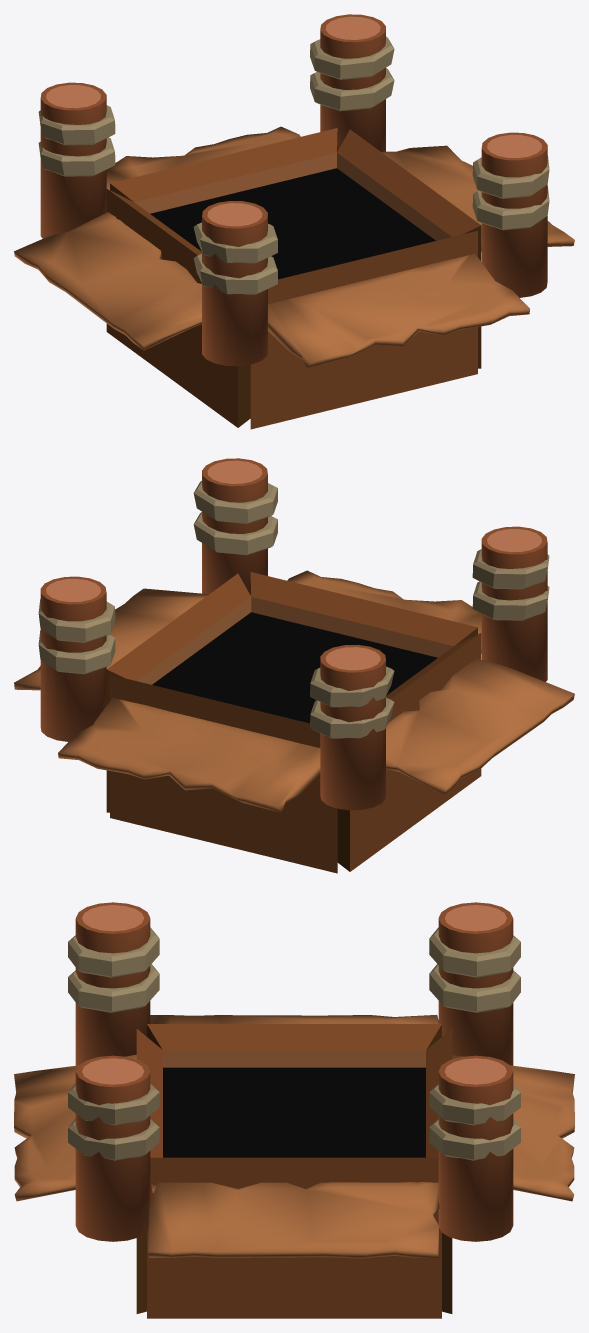
File: Gem_Spawner.fbx
3 views of the same model, one above another, from view 1: azimuth 30°, elevation 25°; view 2: azimuth 150°, elevation 25°; view 3: azimuth 270°, elevation 25° (orthographic). The views are drawn at different scales.
Visible parts, largest first — view 1: Gem_Spawner; view 2: Gem_Spawner; view 3: Gem_Spawner.
Boxes of the visible parts, x1,y1,x2,y2 form: Gem_Spawner: [14, 14, 574, 429]; Gem_Spawner: [14, 458, 574, 873]; Gem_Spawner: [14, 902, 574, 1318].
Size of the model in its own units: 3.3 by 3.3 by 1.67.
